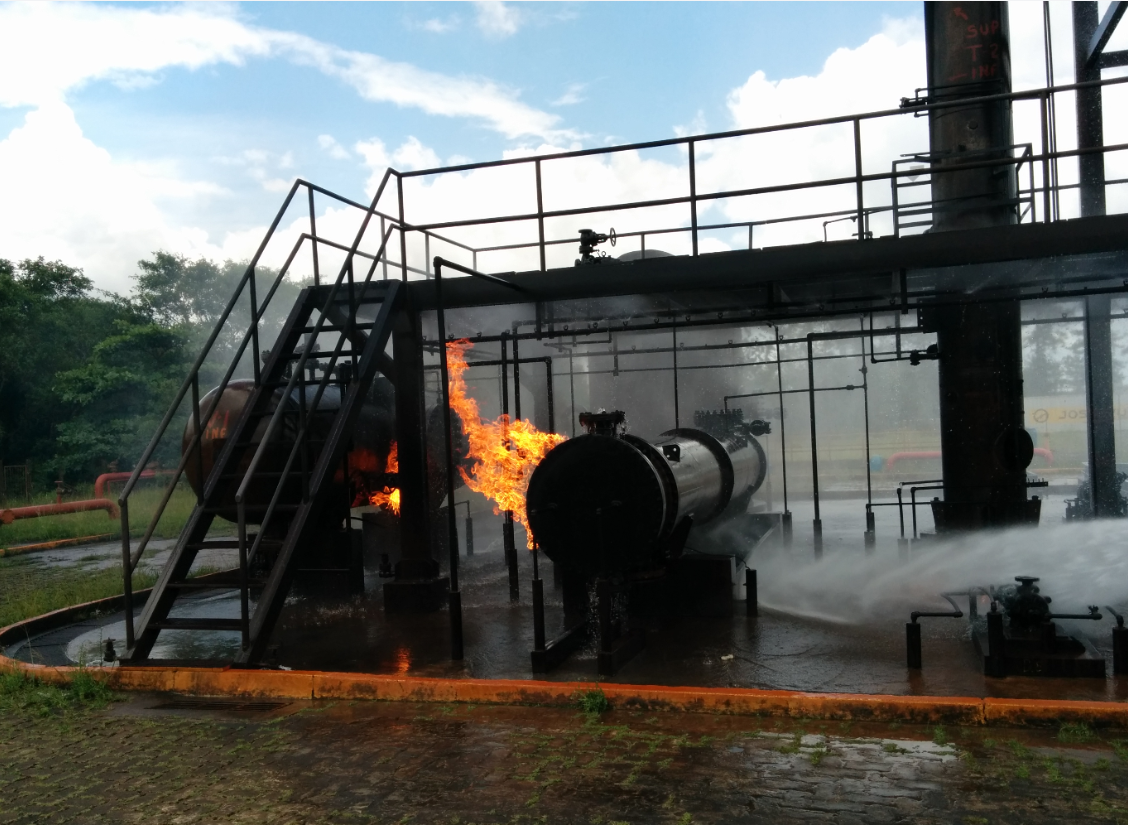喷灌水雾: (684, 502, 1127, 646)
